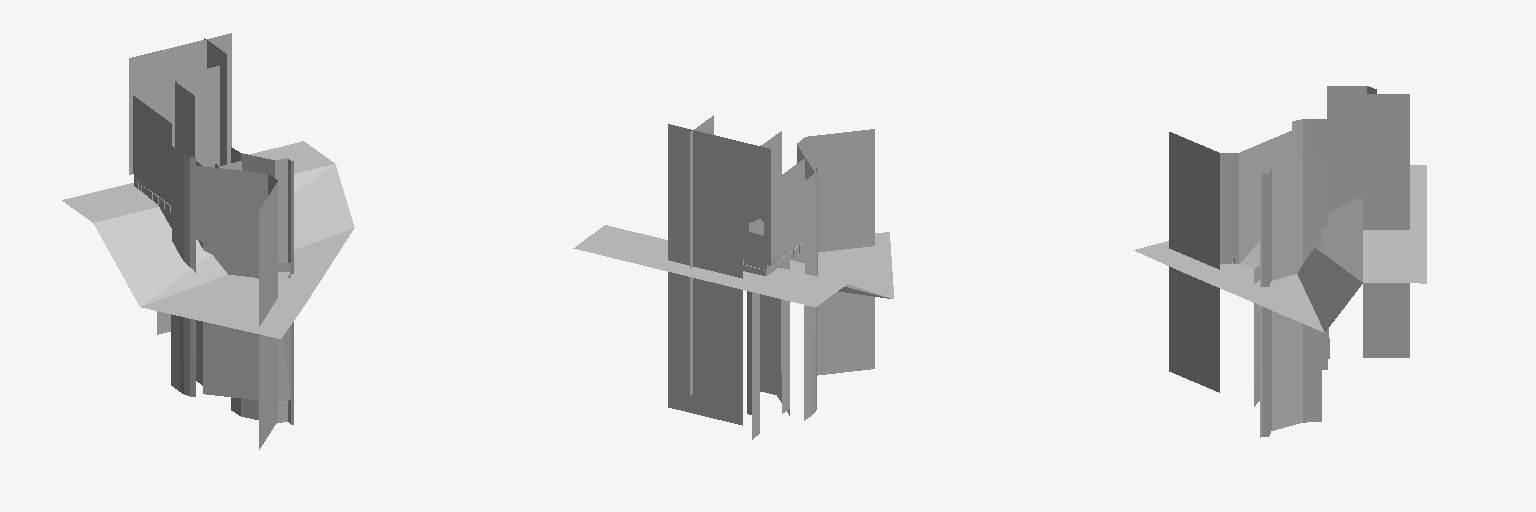
Rendered from STG0100_COLI_07.OBJ.
3 views of the same model, side by side, from view 1: azimuth 30°, elevation 25°; view 2: azimuth 150°, elevation 25°; view 3: azimuth 270°, elevation 25° (orthographic).
Visible parts, largest first — view 1: STG0100_COLI_07_[number redacted], STG0100_COLI_07_[number redacted], STG0100_COLI_07_[number redacted], STG0100_COLI_07_[number redacted]; view 2: STG0100_COLI_07_[number redacted], STG0100_COLI_07_[number redacted], STG0100_COLI_07_[number redacted], STG0100_COLI_07_[number redacted]; view 3: STG0100_COLI_07_[number redacted], STG0100_COLI_07_[number redacted], STG0100_COLI_07_[number redacted], STG0100_COLI_07_[number redacted].
Part boxes in pixels (x1,y1,x2,y2): STG0100_COLI_07_[number redacted]: (129, 33, 277, 449); STG0100_COLI_07_[number redacted]: (62, 141, 354, 338); STG0100_COLI_07_[number redacted]: (175, 66, 290, 400); STG0100_COLI_07_[number redacted]: (204, 38, 293, 424); STG0100_COLI_07_[number redacted]: (668, 124, 874, 425); STG0100_COLI_07_[number redacted]: (573, 225, 893, 307); STG0100_COLI_07_[number redacted]: (749, 131, 789, 415); STG0100_COLI_07_[number redacted]: (690, 115, 759, 439); STG0100_COLI_07_[number redacted]: (1260, 94, 1409, 437); STG0100_COLI_07_[number redacted]: (1169, 119, 1362, 392); STG0100_COLI_07_[number redacted]: (1134, 165, 1426, 332); STG0100_COLI_07_[number redacted]: (1254, 86, 1376, 406).
Bounding box in the file's own units: 1676 × 2223 × 1758.